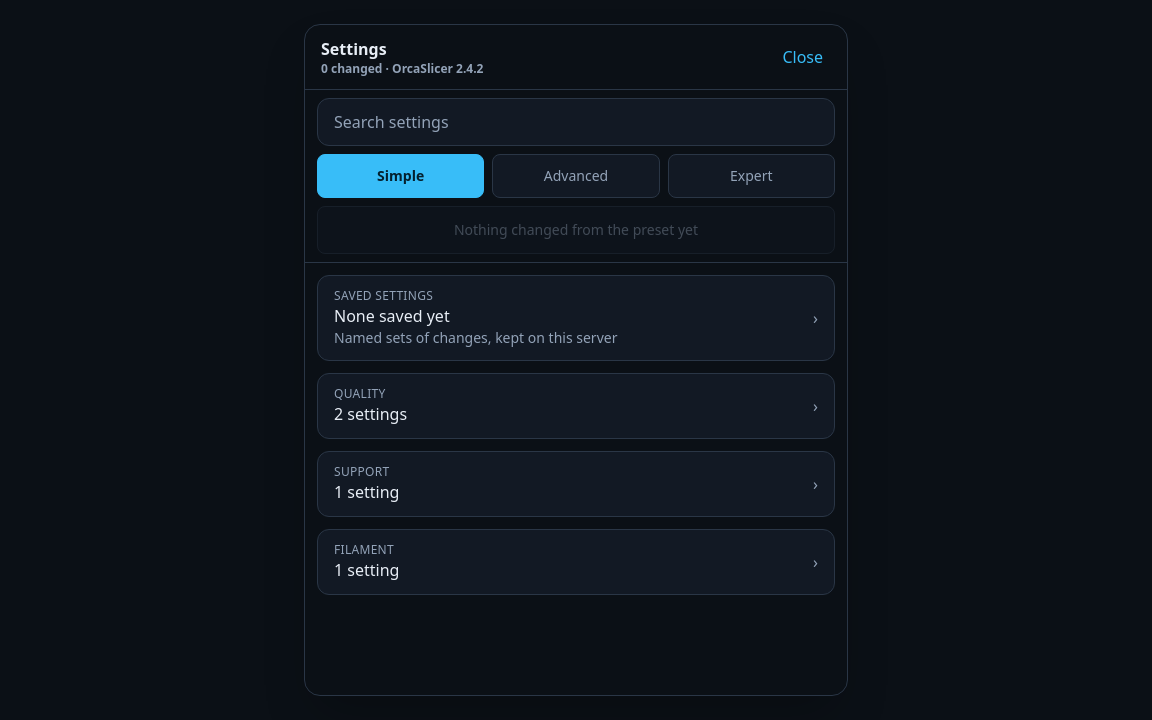
Test case: the settings sheet › says out loud when a value comes from no preset at all
Click the button with test id "mode-advanced".
click(576, 176)  # box [492,154,660,198]
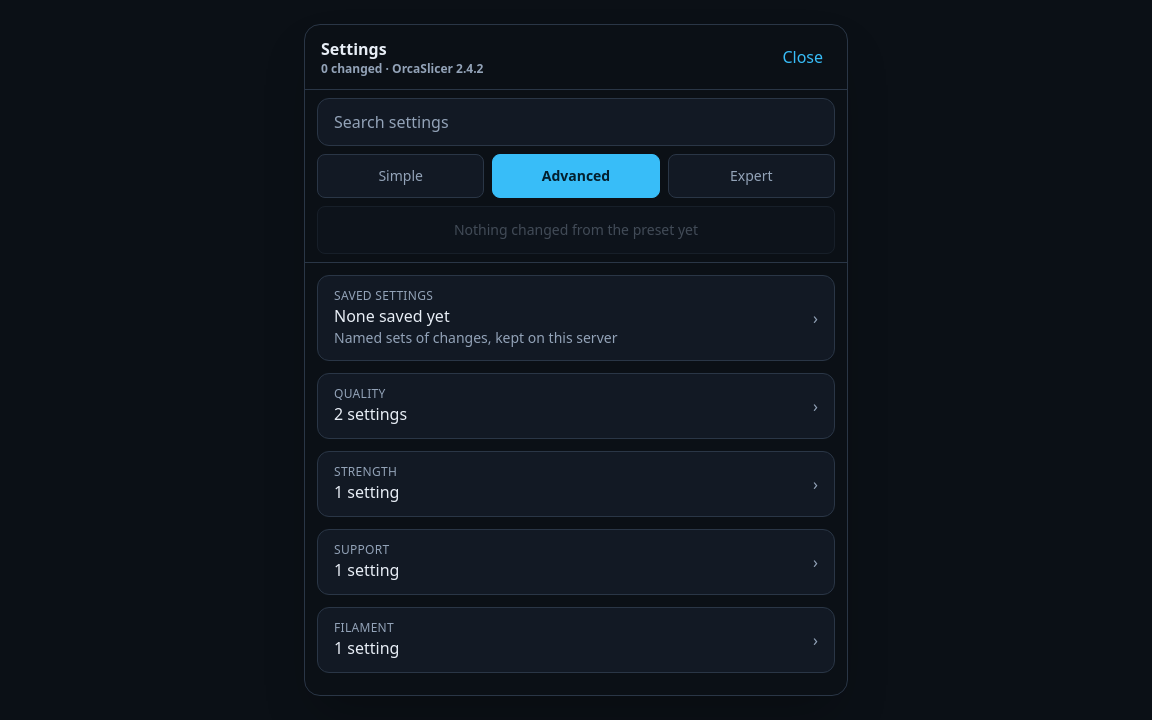
Click the button with test id "settings-group-Strength".
click(366, 472)  # box [317,451,835,517]
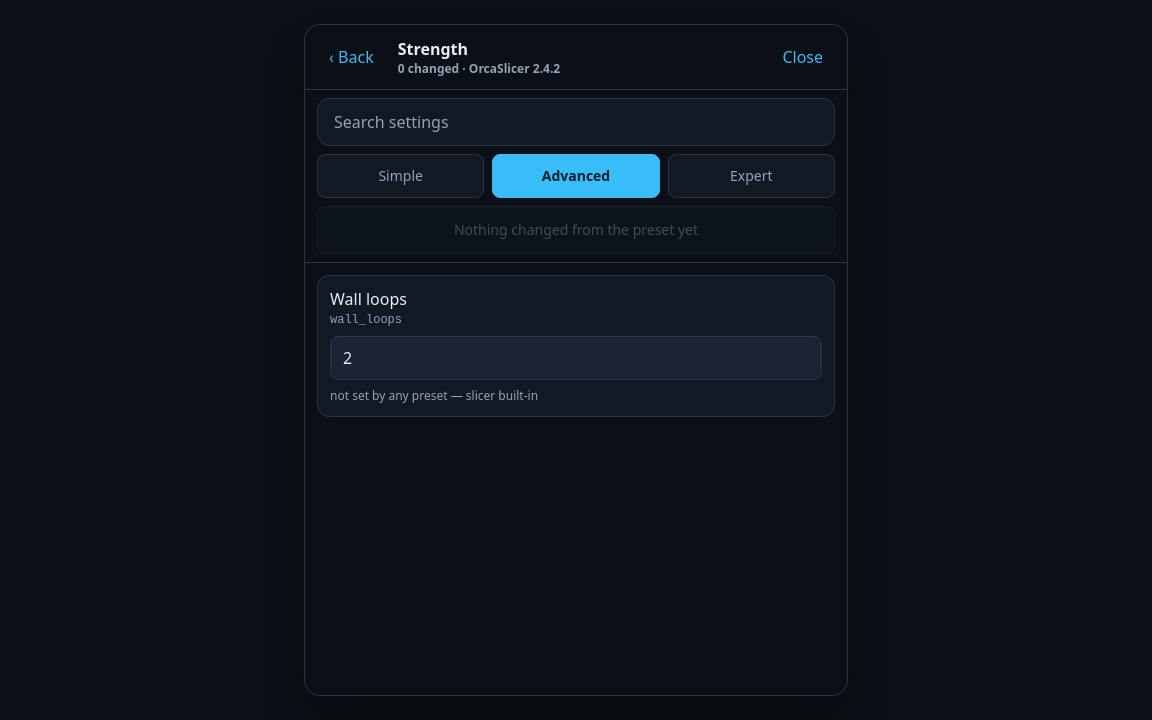
Check: the element with test id "setting-wall_loops" shows "slicer built-in", box [330,387,538,404]
